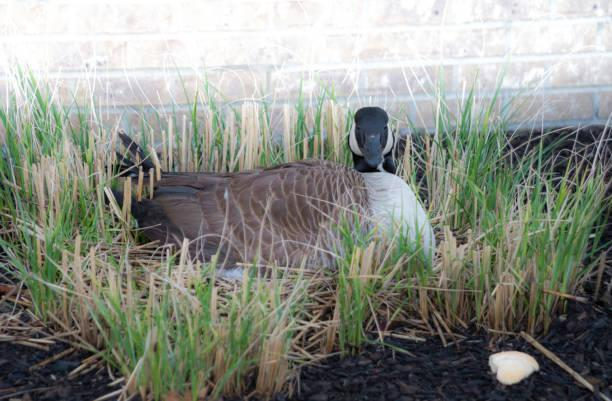Canadian-Goose: (117, 101, 441, 274)
